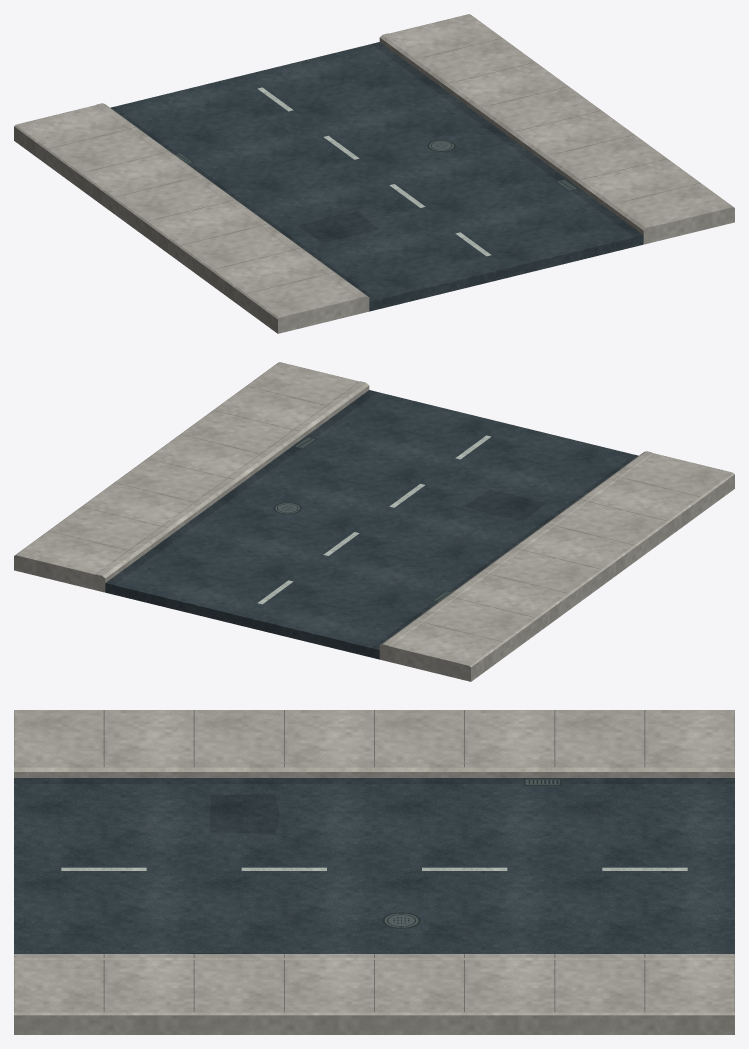
Rendered from RoadStraight.glb.
The picture shows the model from 3 angles, top to bottom: view 1: azimuth 30°, elevation 25°; view 2: azimuth 150°, elevation 25°; view 3: azimuth 270°, elevation 25°; orthographic projection. The views are drawn at different scales.
Parts seen in each view (by area): view 1: SM_RoadStraight-col, SM_RoadStraight_Details; view 2: SM_RoadStraight-col, SM_RoadStraight_Details; view 3: SM_RoadStraight-col, SM_RoadStraight_Details.
Boxes of the visible parts, x1,y1,x2,y2 form: SM_RoadStraight-col: (14,14,734,333); SM_RoadStraight_Details: (18,14,731,317); SM_RoadStraight-col: (14,362,734,681); SM_RoadStraight_Details: (17,362,730,665); SM_RoadStraight-col: (14,710,734,1034); SM_RoadStraight_Details: (14,710,734,1012).
Bounding box in the file's own units: 12 × 0.4025 × 12.
7 materials, 4 textured.
